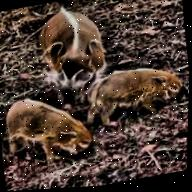boar: (48, 48, 186, 136), (0, 86, 96, 170), (32, 0, 110, 84)
